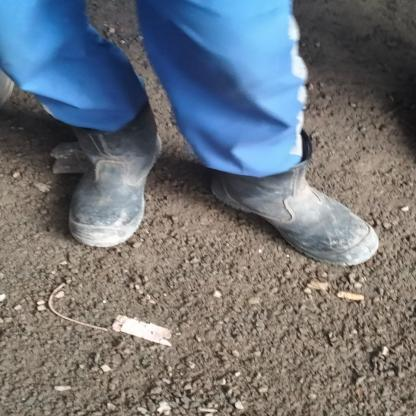bota: (215, 135, 385, 266), (50, 120, 168, 249)
